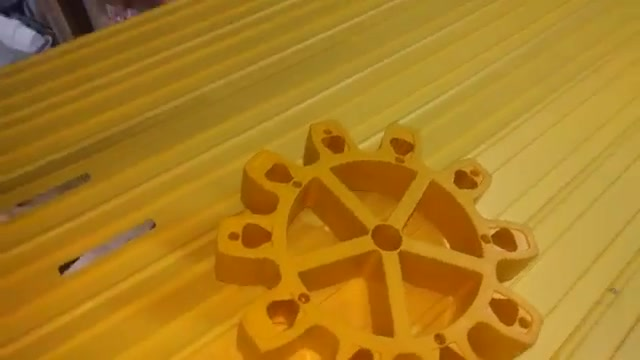gear: (194, 90, 552, 360)
